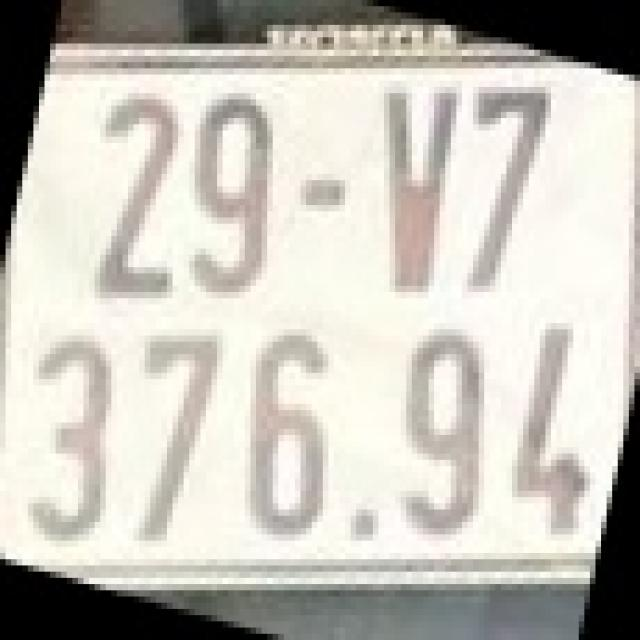2: (89, 87, 178, 298)
3: (28, 336, 111, 534)
4: (506, 317, 596, 534)
6: (245, 330, 334, 534)
7: (134, 329, 222, 541), (467, 81, 551, 292)
9: (189, 87, 278, 298), (401, 323, 484, 534)
V: (373, 81, 462, 292)
